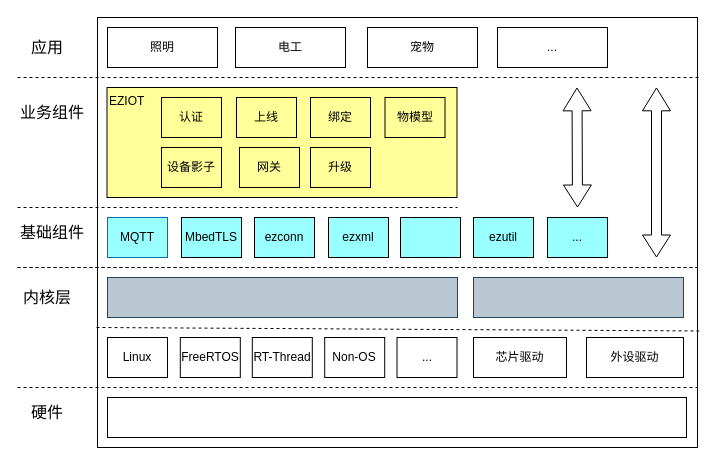
This 718x465 diagram has some shape labels left out. The shapes that lost their labels are listed below. From the top down, each one's centre as x and y in pixels, then its label:
At (x=430, y=237): "eztimer".
At (x=282, y=297): "OSAL（系统抽象）".
At (x=578, y=297): "HAL（硬件抽象）".
At (x=396, y=417): "ESP8266、ESP32、RTL8710、Hisiv500、TLSR8258、...".
